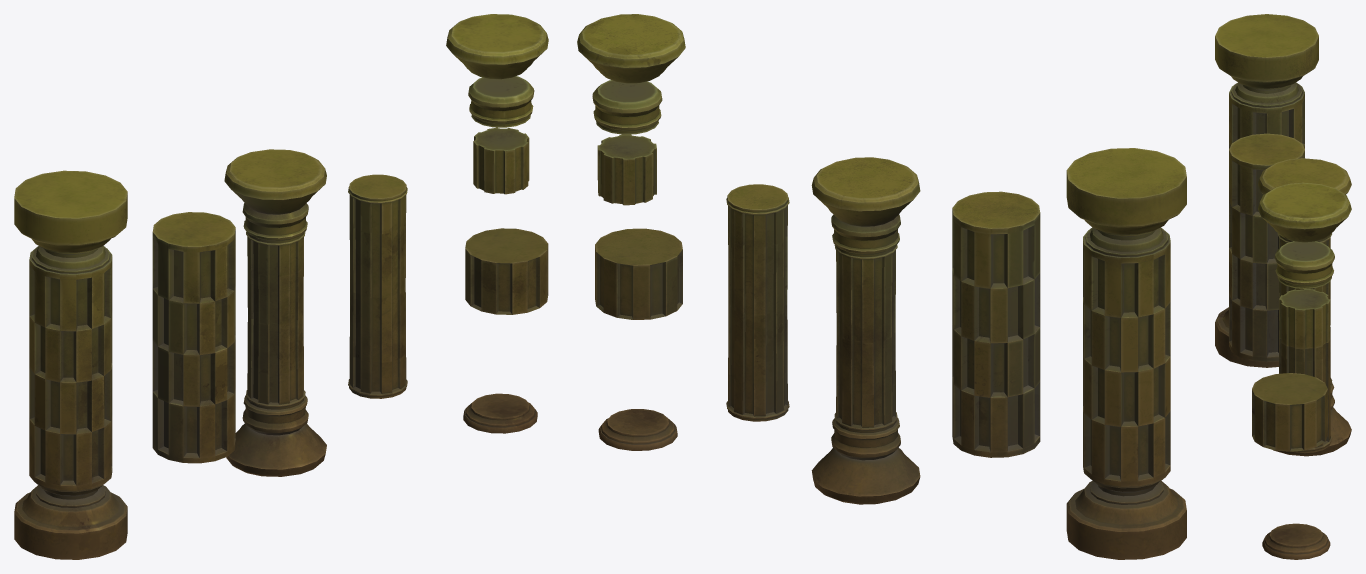
The model's file is column.fbx.
3 views of the same model, side by side, from view 1: azimuth 30°, elevation 25°; view 2: azimuth 150°, elevation 25°; view 3: azimuth 270°, elevation 25° (orthographic). The views are drawn at different scales.
Parts seen in each view (by area): view 1: column, column.002, column.008, column.004, column.001, column.007, column.005, column.006, column.003; view 2: column, column.002, column.008, column.004, column.001, column.007, column.005, column.006, column.003; view 3: column, column.008, column.001, column.007, column.002, column.005, column.006, column.004, column.003.
Part boxes in pixels (x1,y1,x2,y2): column: (14,170,127,559); column.002: (224,149,326,476); column.008: (152,212,235,463); column.004: (348,174,407,398); column.001: (465,228,548,314); column.007: (446,14,548,79); column.005: (473,127,529,194); column.006: (468,76,534,127); column.003: (463,393,537,433); column: (1066,148,1186,559); column.002: (811,157,920,504); column.008: (952,191,1040,457); column.004: (726,184,789,421); column.001: (595,228,682,319); column.007: (577,14,685,83); column.005: (597,134,656,205); column.006: (592,80,662,134); column.003: (598,409,677,450); column: (1215,14,1318,367); column.008: (1229,133,1304,362); column.001: (1252,373,1327,451); column.007: (1258,182,1351,242); column.002: (1258,158,1351,456); column.005: (1279,289,1330,349); column.006: (1274,241,1334,288); column.004: (1279,281,1332,453); column.003: (1262,523,1330,559).
Bounding box in the file's own units: 1494 × 1003 × 360.
1 material, 1 textured.
